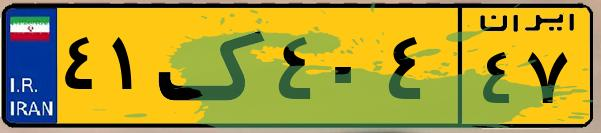0: (330, 28, 385, 110)
1: (110, 28, 158, 98)
4: (270, 28, 330, 110), (385, 28, 445, 110), (57, 26, 110, 100), (475, 38, 525, 113)
7: (525, 38, 570, 115)
ک: (158, 12, 270, 120)
